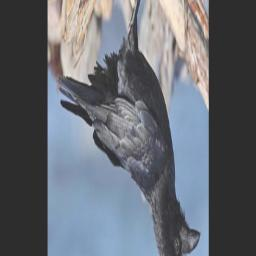Crow: (56, 0, 201, 256)
